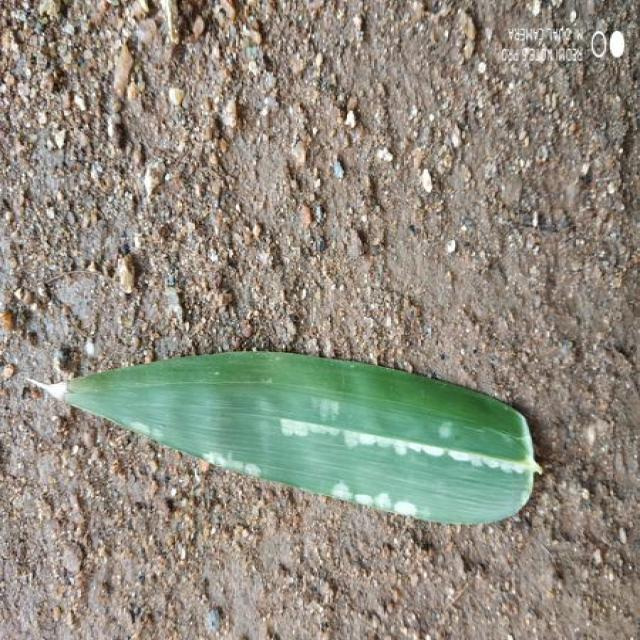Bamboo: (28, 351, 540, 523)
